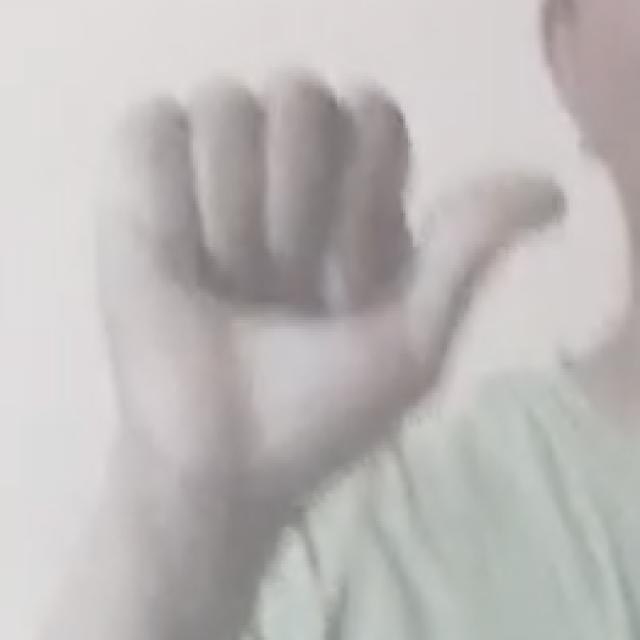A: (71, 58, 576, 523)
